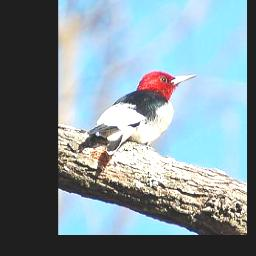Woodpecker: (86, 70, 199, 157)
